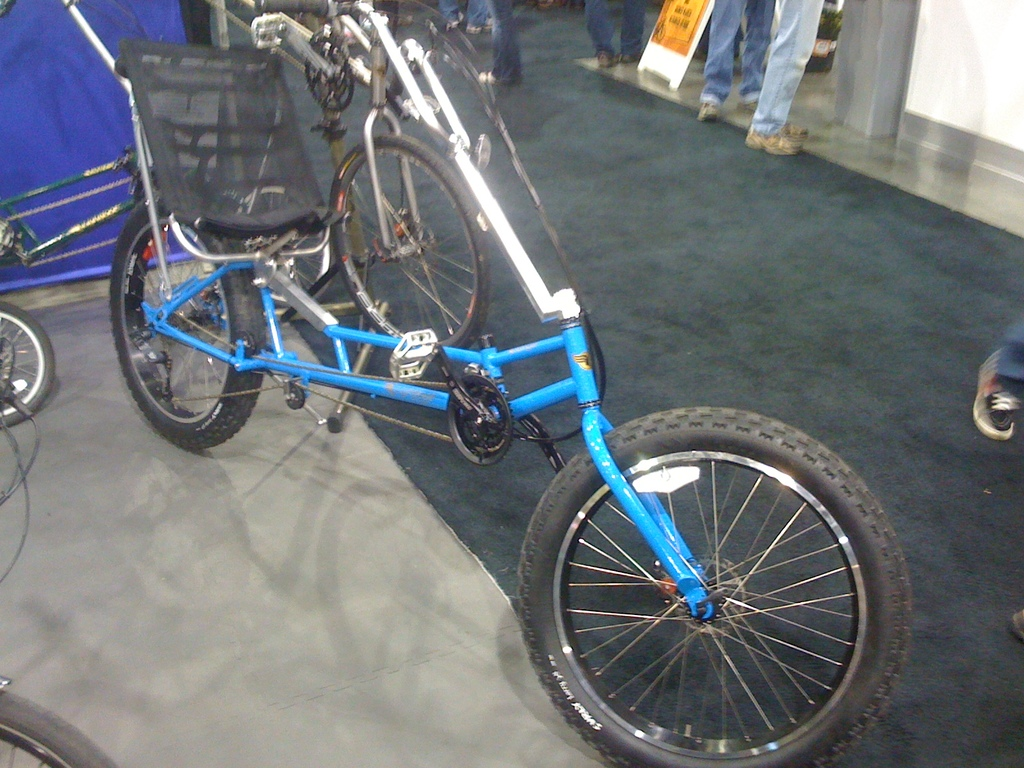person: (429, 0, 495, 34)
